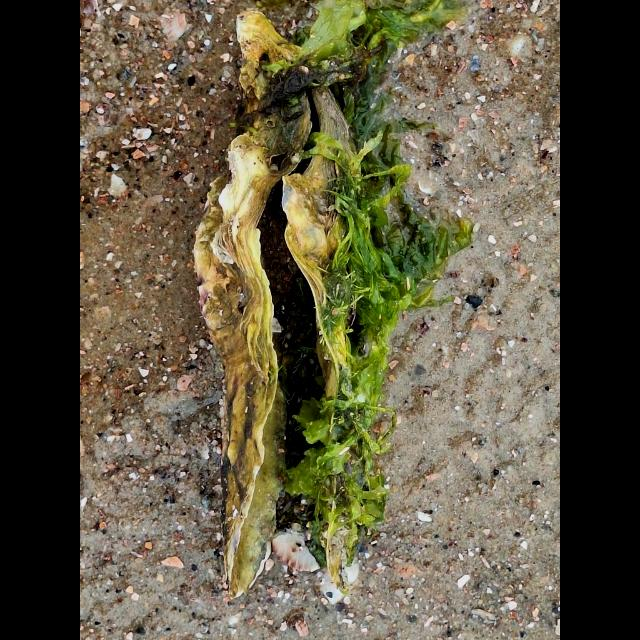Oyster-Open: (193, 9, 373, 595)
